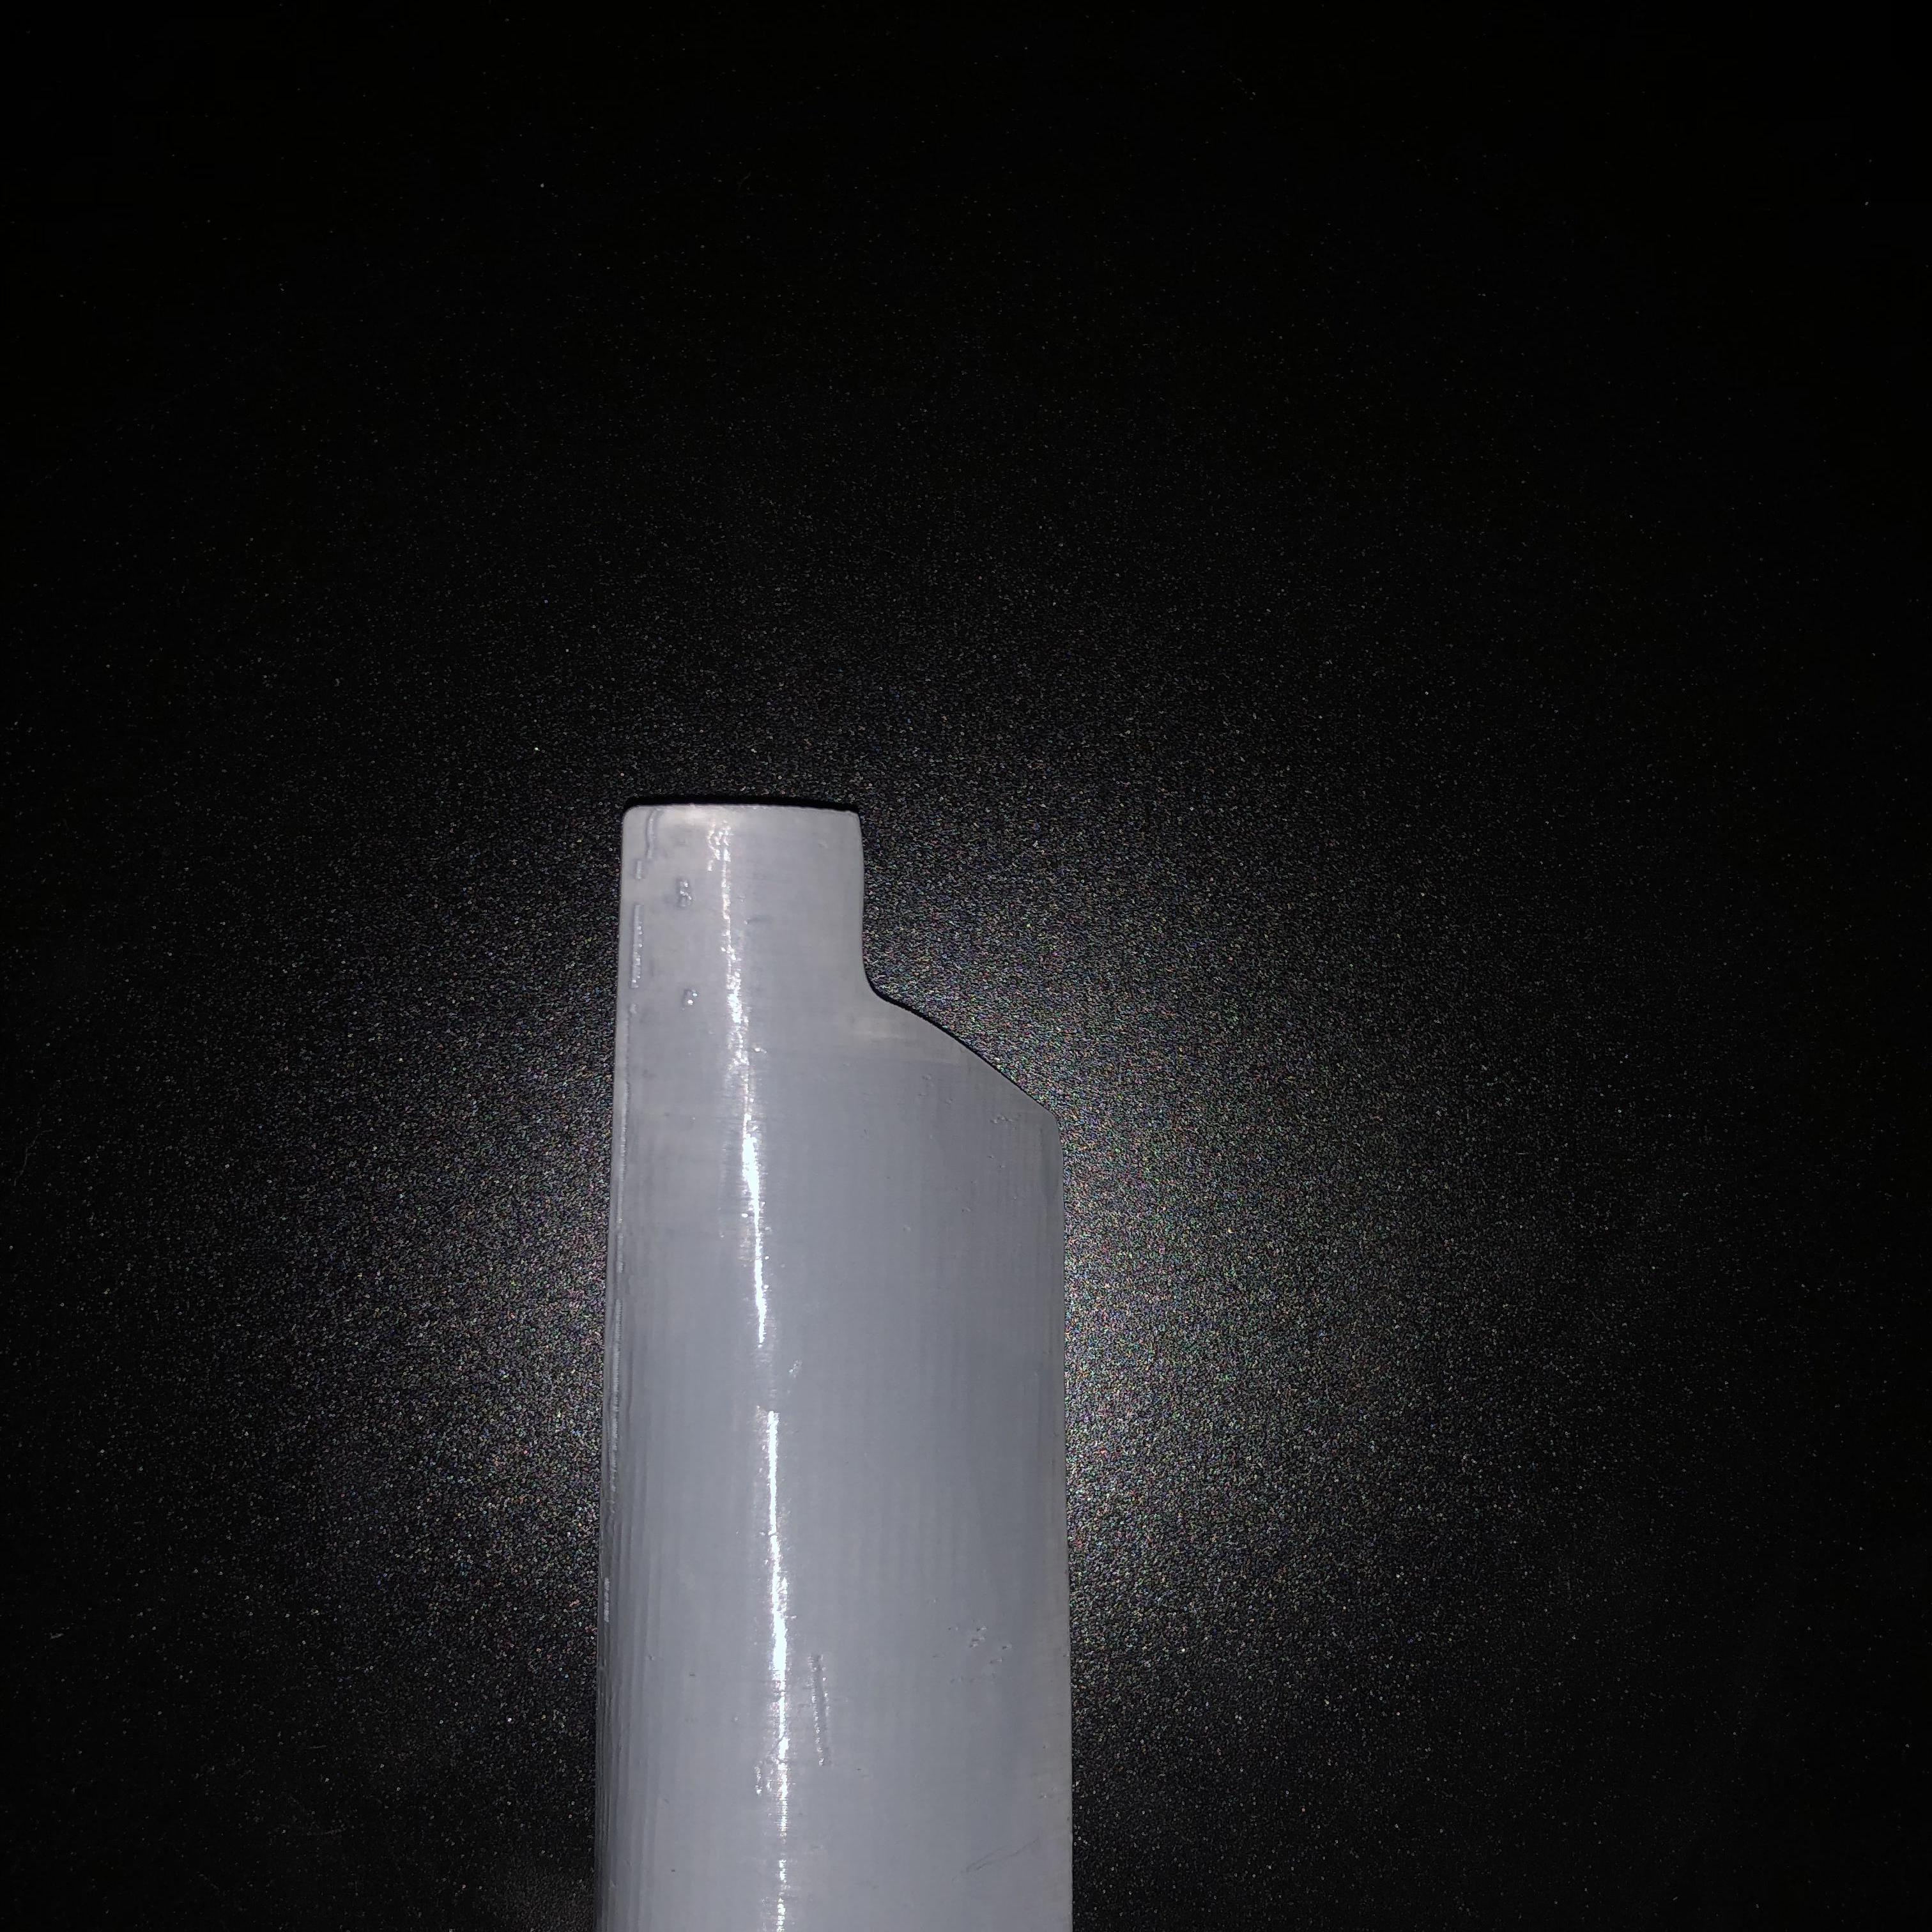fracture: (835, 819, 1056, 1099)
